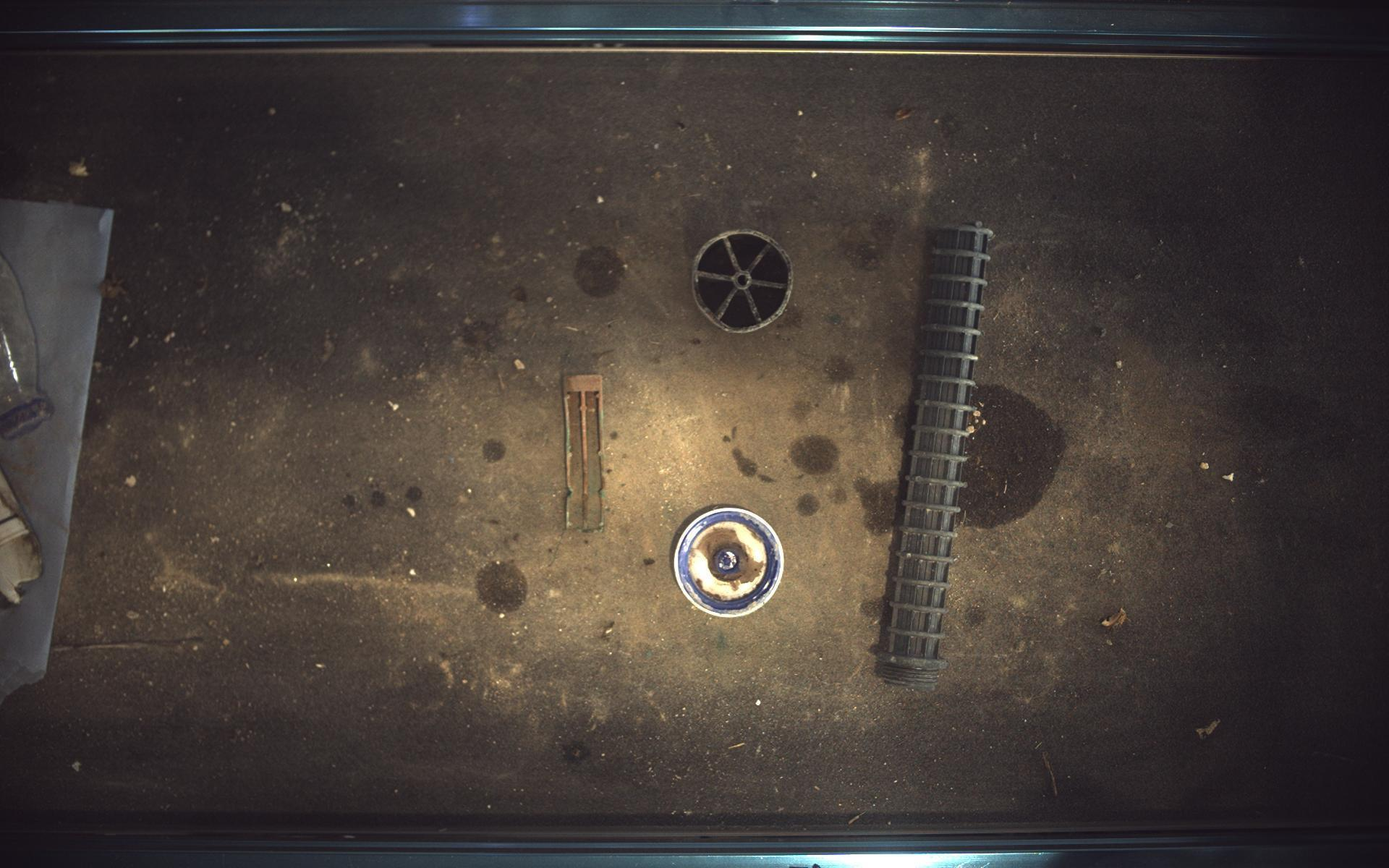general_w: (674, 507, 785, 618), (1, 254, 53, 440)
plastic: (878, 223, 994, 692), (693, 229, 794, 333), (563, 374, 607, 532), (1, 472, 41, 605)
